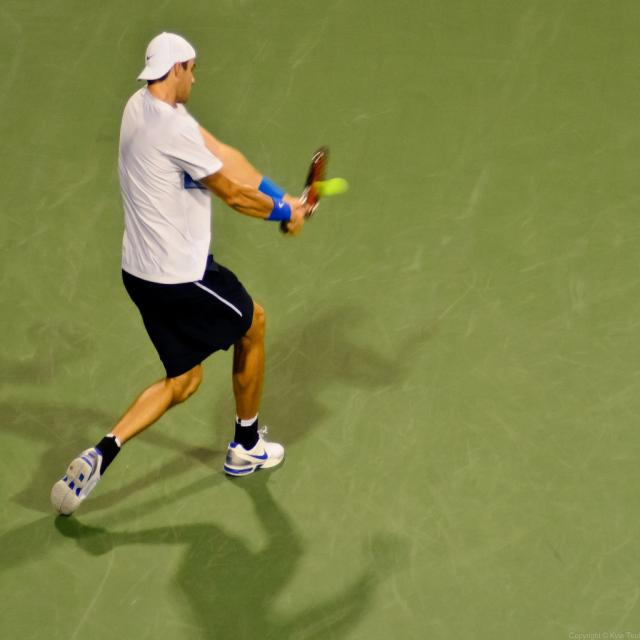Tennis ball: (316, 175, 350, 198)
